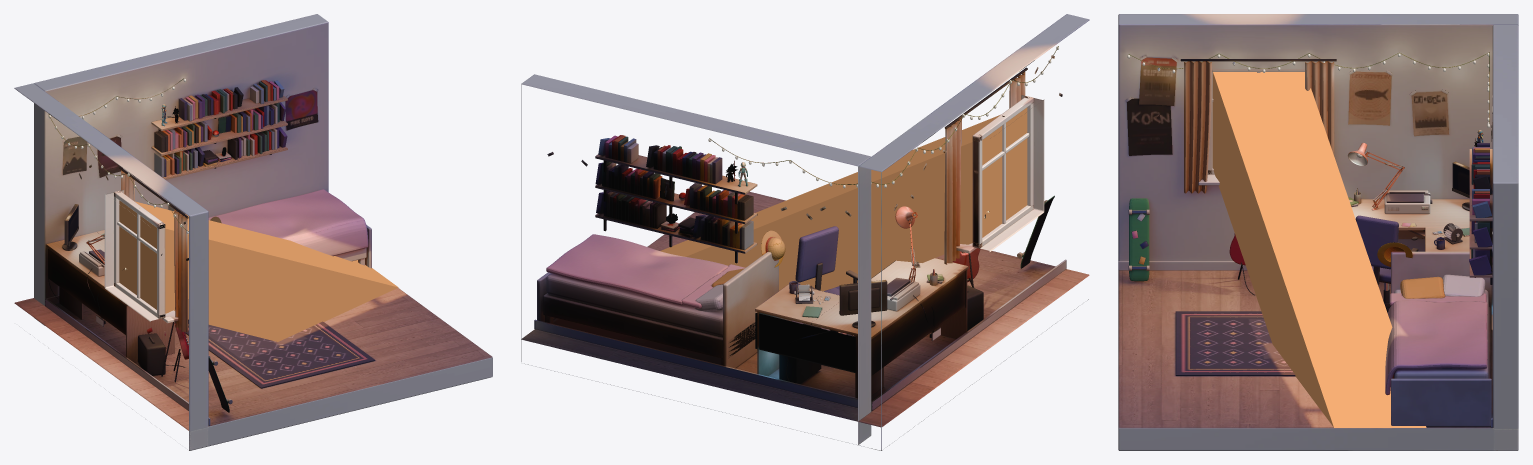
Rendered from room.glb.
The picture shows the model from 3 angles, left to right: view 1: azimuth 30°, elevation 25°; view 2: azimuth 150°, elevation 25°; view 3: azimuth 270°, elevation 25°; orthographic projection. The views are drawn at different scales.
Visible parts, largest first — view 1: Room_Shell, LightShaft, Room_Furniture, Room_Props, PrinterBody; view 2: Room_Shell, Room_Furniture, LightShaft, Room_Props, TowerMesh, PrinterBody; view 3: Room_Shell, LightShaft, Room_Furniture, Room_Props, PrinterBody, Screen.
Part boxes in pixels (left/top/right/bottom): Room_Shell: left=14, top=14, right=492, bottom=450; LightShaft: left=119, top=200, right=398, bottom=341; Room_Furniture: left=46, top=95, right=371, bottom=382; Room_Props: left=48, top=80, right=287, bottom=412; PrinterBody: left=79, top=248, right=104, bottom=276; Room_Shell: left=521, top=14, right=1089, bottom=450; Room_Furniture: left=537, top=154, right=983, bottom=398; LightShaft: left=660, top=107, right=1027, bottom=291; Room_Props: left=595, top=135, right=1054, bottom=397; TowerMesh: left=779, top=323, right=821, bottom=383; PrinterBody: left=887, top=278, right=920, bottom=311; Room_Shell: left=1118, top=14, right=1518, bottom=450; LightShaft: left=1212, top=72, right=1426, bottom=427; Room_Furniture: left=1229, top=149, right=1492, bottom=426; Room_Props: left=1128, top=130, right=1492, bottom=281; PrinterBody: left=1384, top=190, right=1432, bottom=213; Screen: left=1453, top=164, right=1469, bottom=194.
Bounding box in the file's own units: 4.15 × 2.85 × 3.85.
Materials: 6 (5 with a texture image).
